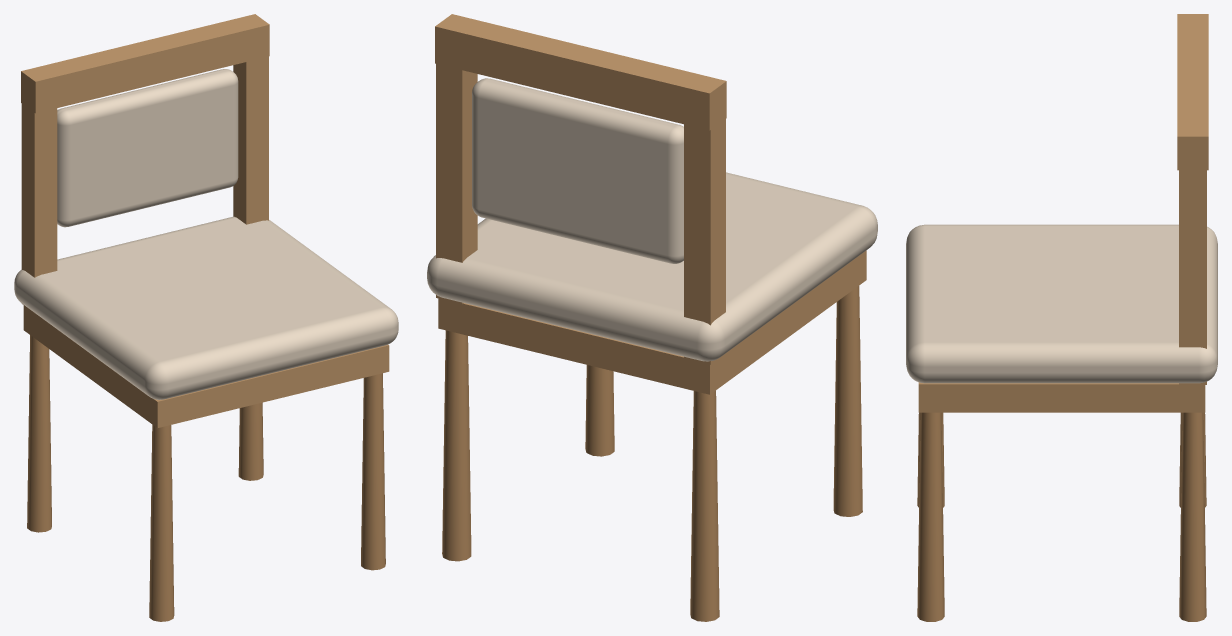
The model's file is chair.glb.
3 views of the same model, side by side, from view 1: azimuth 30°, elevation 25°; view 2: azimuth 150°, elevation 25°; view 3: azimuth 270°, elevation 25° (orthographic). The views are drawn at different scales.
Visible parts, largest first — view 1: material-2-upholstery, material-1-frame, material-0-leg; view 2: material-2-upholstery, material-1-frame, material-0-leg; view 3: material-2-upholstery, material-1-frame, material-0-leg.
Boxes of the visible parts, left/top/right/bottom form: material-2-upholstery: left=14, top=69, right=398, bottom=399; material-1-frame: left=21, top=14, right=389, bottom=428; material-0-leg: left=27, top=335, right=385, bottom=621; material-2-upholstery: left=427, top=78, right=877, bottom=361; material-1-frame: left=435, top=14, right=866, bottom=394; material-0-leg: left=442, top=286, right=862, bottom=621; material-2-upholstery: left=906, top=224, right=1217, bottom=383; material-1-frame: left=918, top=14, right=1208, bottom=412; material-0-leg: left=917, top=412, right=1206, bottom=621.
Size of the model in its own units: 0.5 by 0.86 by 0.5.
